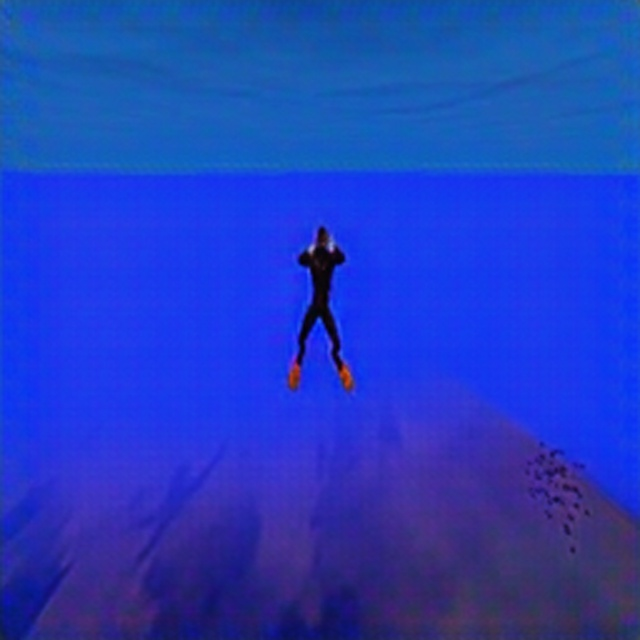diver: (286, 222, 356, 396)
